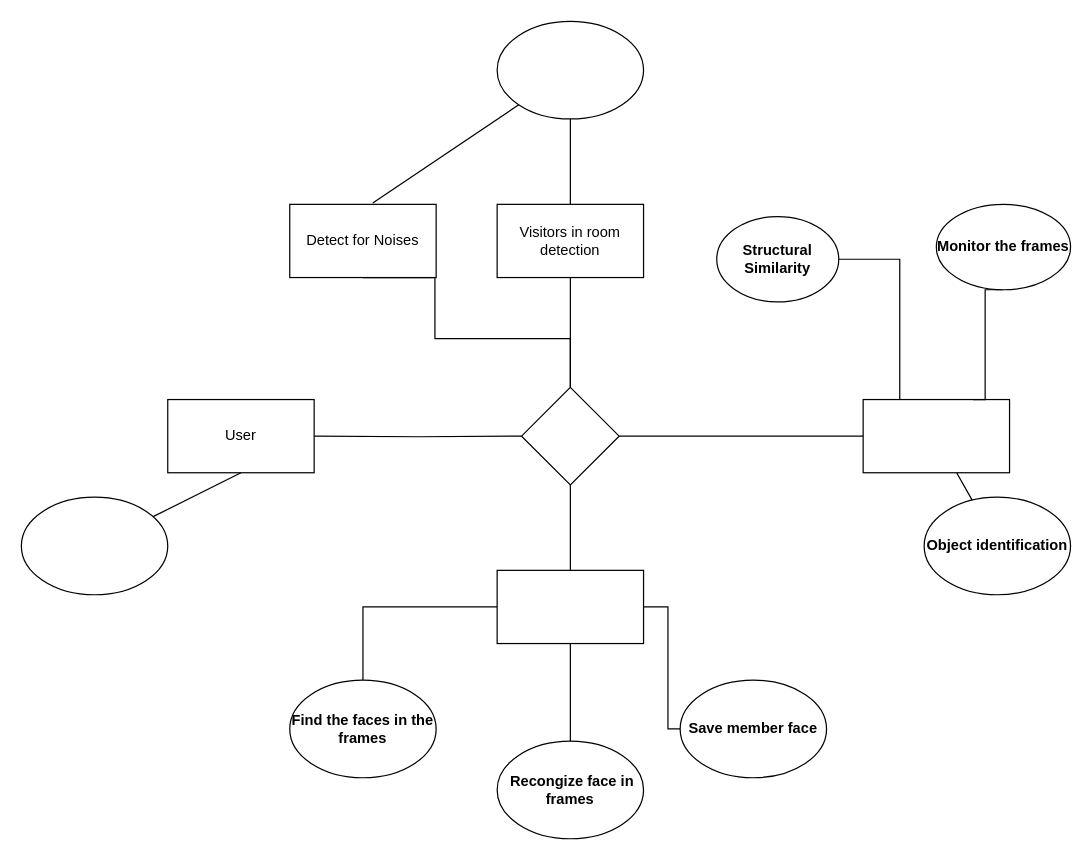
The diagram is 1092 pixels wide and 860 high, and some of its shapes have lost their labels. The shapes that lost their labels are listed below. From the top down, each one's centre as x and y in pixels, then its label:
the point at 570,69: find the noises in the frames
the point at 569,435: Select Option
the point at 936,435: Monitor
the point at 94,545: Installs the camera
the point at 570,606: Identify member
